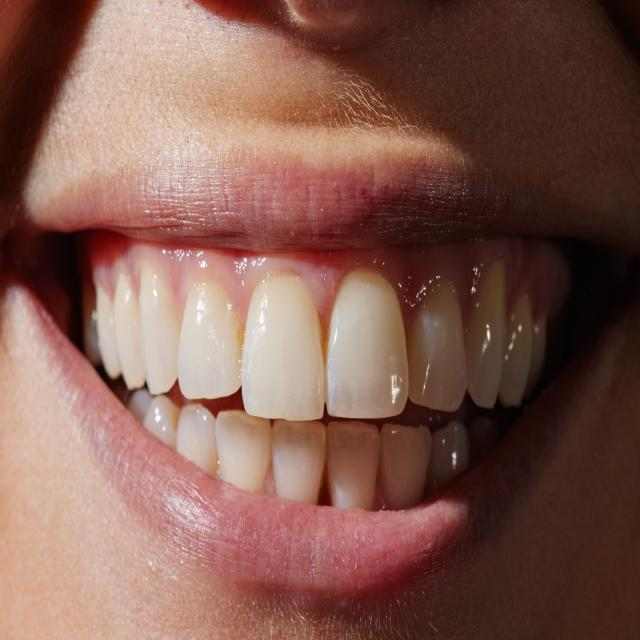tooth: (241, 268, 326, 424), (327, 265, 409, 419), (406, 278, 469, 418), (179, 278, 241, 404), (326, 421, 384, 523), (136, 264, 178, 392), (466, 261, 502, 410), (218, 412, 272, 494), (273, 424, 327, 504), (383, 420, 432, 506), (85, 284, 124, 379), (178, 402, 220, 482), (507, 306, 531, 410), (433, 431, 474, 479), (531, 317, 552, 392), (471, 416, 506, 459), (148, 395, 175, 446), (131, 386, 148, 422)
